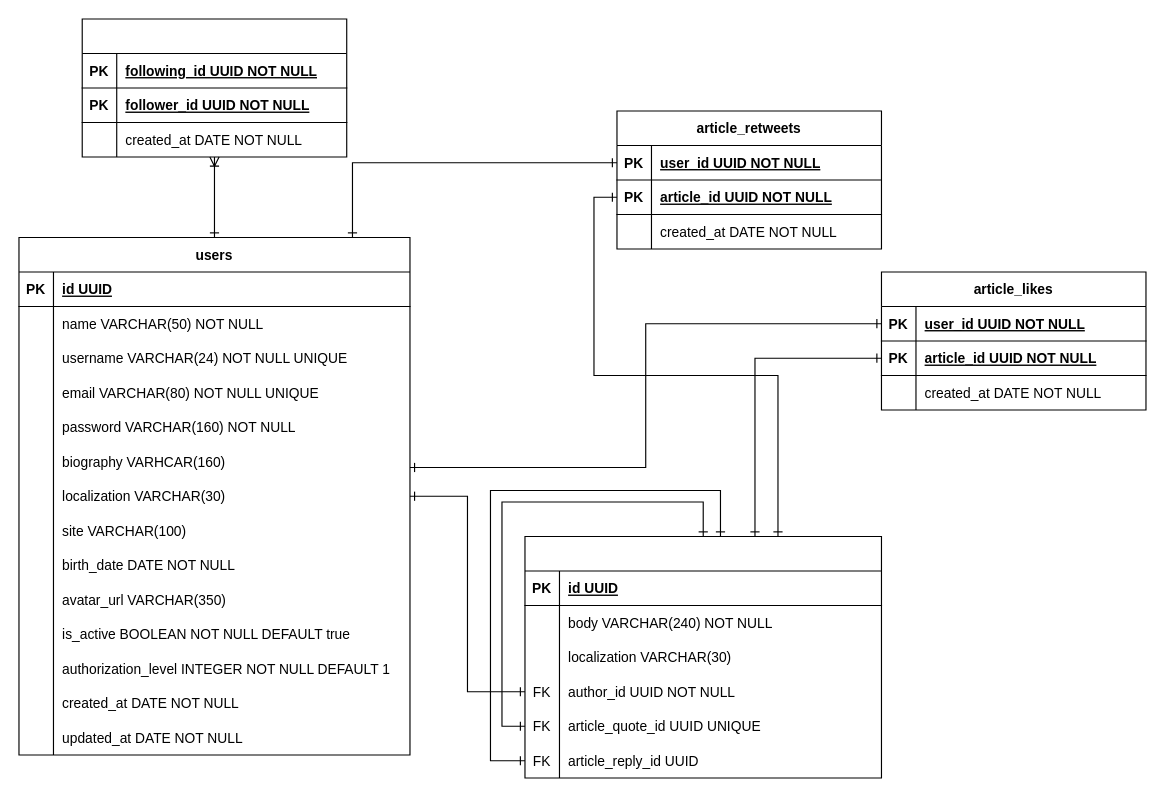
Some shapes in this 1165 by 797 pixel diagram are drawn without their labels. The shapes that lost their labels are listed below. From the top down, each one's box as (x1, y1, x2, y2) in pixels, then its label:
(81, 18, 347, 157): user_follow
(524, 535, 881, 778): article_post
